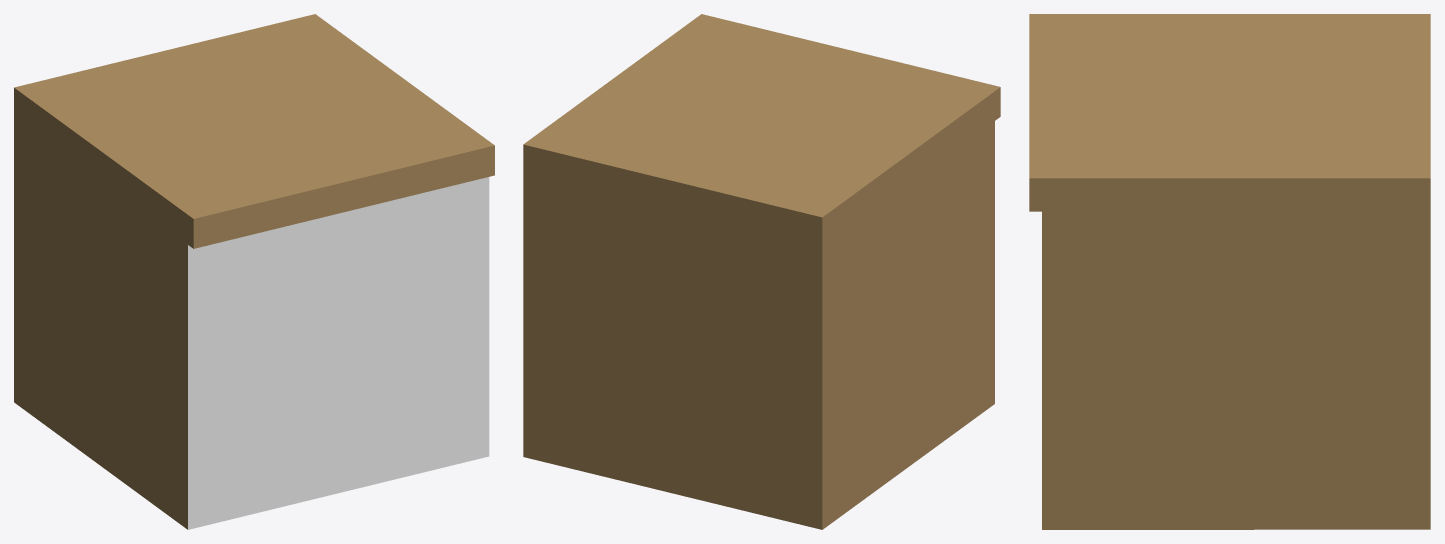
Rendered from Counter1_02.FBX.
3 views of the same model, side by side, from view 1: azimuth 30°, elevation 25°; view 2: azimuth 150°, elevation 25°; view 3: azimuth 270°, elevation 25° (orthographic). The views are drawn at different scales.
Visible parts, largest first — view 1: NormalCounter_Front; view 2: NormalCounter_Front; view 3: NormalCounter_Front.
Part boxes in pixels (x1=…): NormalCounter_Front: x1=14, y1=14, x2=494, y2=529; NormalCounter_Front: x1=523, y1=14, x2=1000, y2=529; NormalCounter_Front: x1=1029, y1=14, x2=1430, y2=529.
Bounding box in the file's own units: 91.18 × 91.1 × 94.13.
